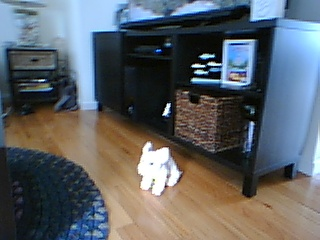piggy: (135, 140, 183, 197)
